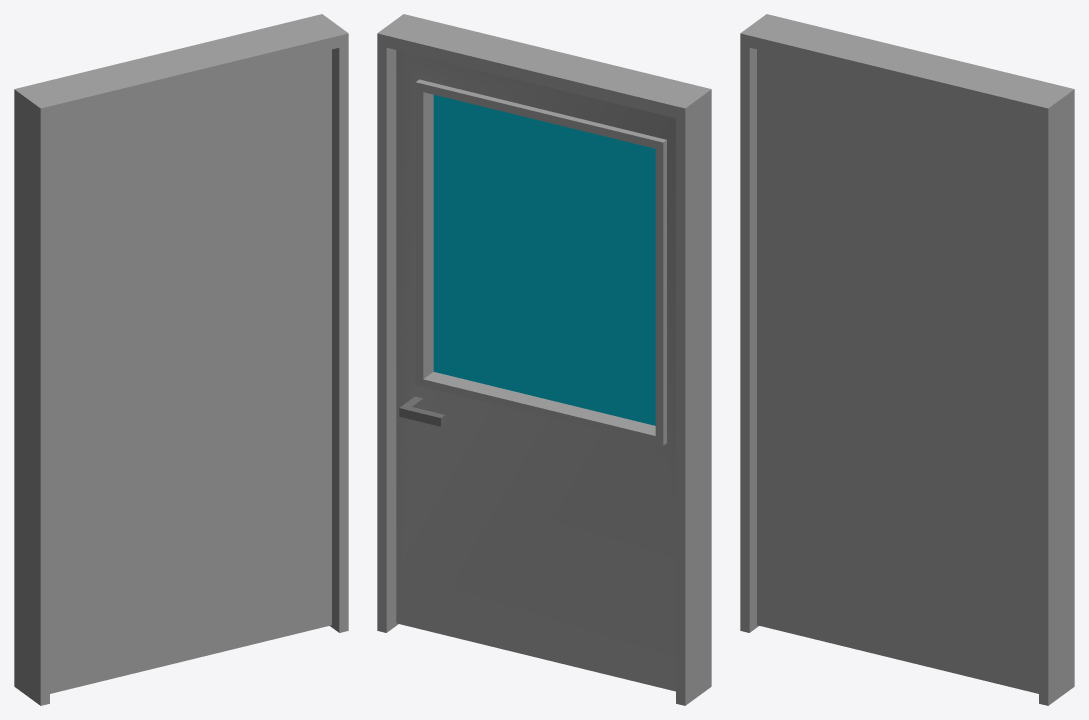
Rendered from SM_Door 1.fbx.
3 renders of one model, left to right at view 1: azimuth 30°, elevation 25°; view 2: azimuth 150°, elevation 25°; view 3: azimuth 330°, elevation 25°, orthographic.
Visible parts, largest first — view 1: door_2X3, doorFrame_2x1; view 2: door_2X3, doorFrame_2x1; view 3: door_2X3, doorFrame_2x1.
Part boxes in pixels (x1,y1,x2,y2): door_2X3: [50, 49, 331, 693]; doorFrame_2x1: [14, 14, 348, 705]; door_2X3: [396, 50, 675, 691]; doorFrame_2x1: [377, 14, 711, 705]; door_2X3: [757, 49, 1038, 693]; doorFrame_2x1: [740, 14, 1074, 705].
Bounding box in the file's own units: 118 × 219 × 20.15.
